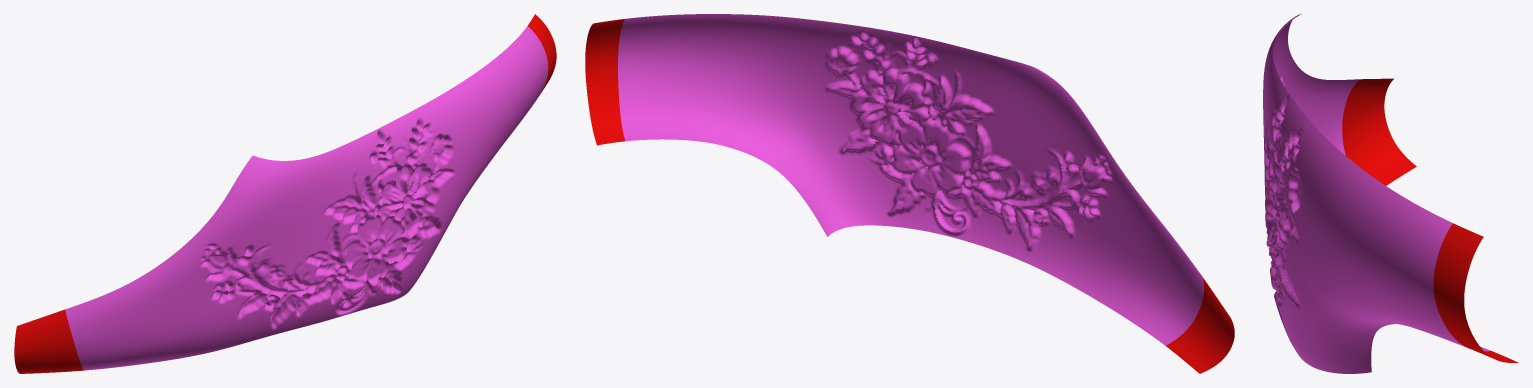
File: side_engraving.glb
The picture shows the model from 3 angles, left to right: view 1: azimuth 30°, elevation 25°; view 2: azimuth 150°, elevation 25°; view 3: azimuth 270°, elevation 25°; orthographic projection. The views are drawn at different scales.
Parts seen in each view (by area): view 1: side_engraving; view 2: side_engraving; view 3: side_engraving.
Boxes of the visible parts, x1=… form: side_engraving: x1=14, y1=14, x2=556, y2=373; side_engraving: x1=585, y1=14, x2=1234, y2=373; side_engraving: x1=1263, y1=14, x2=1518, y2=373.
Size of the model in its own units: 0.1366 by 0.0484 by 0.0384.
